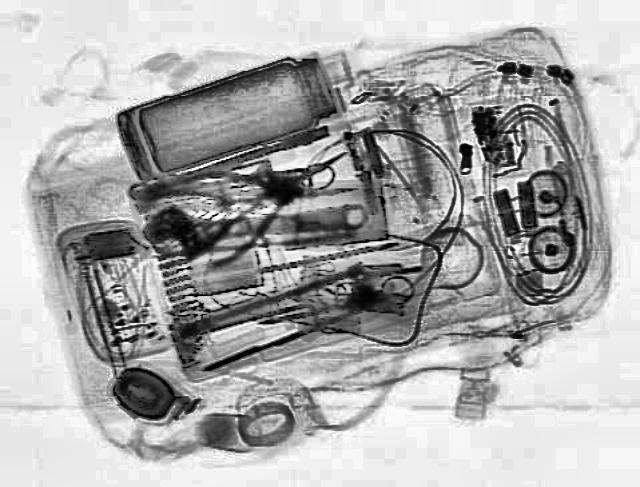Pliers: (138, 124, 386, 272)
